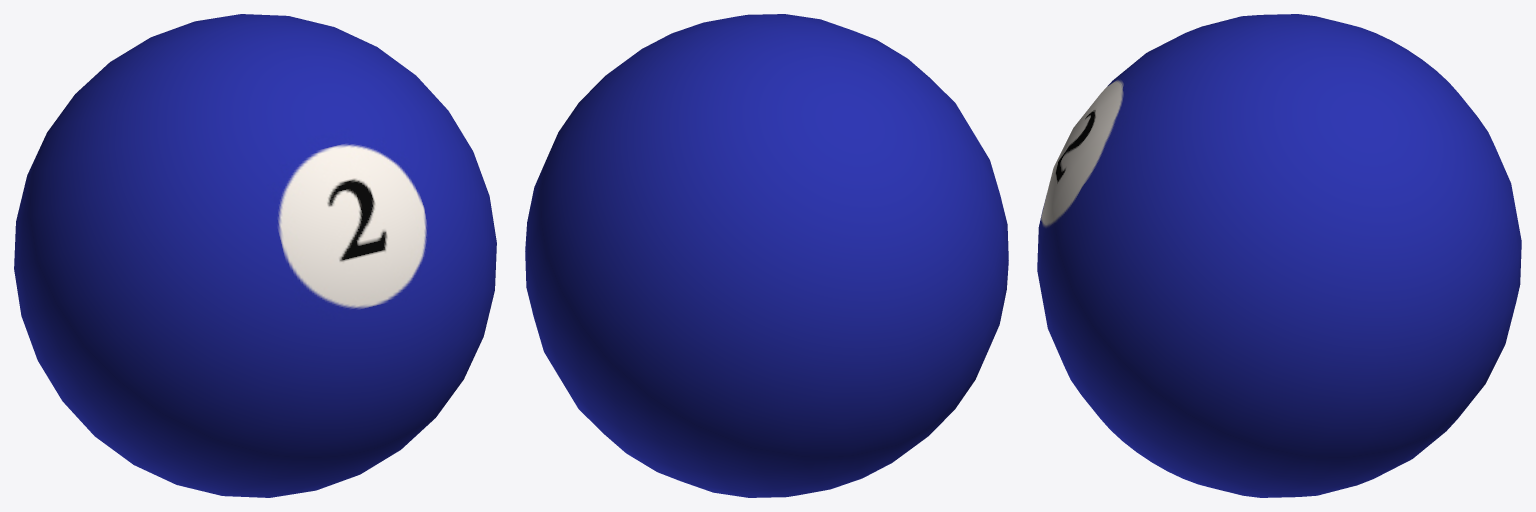
File: ball2.obj
3 renders of one model, left to right at view 1: azimuth 30°, elevation 25°; view 2: azimuth 150°, elevation 25°; view 3: azimuth 270°, elevation 25°, orthographic.
Parts seen in each view (by area): view 1: Ball2_Mesh.002; view 2: Ball2_Mesh.002; view 3: Ball2_Mesh.002.
Part boxes in pixels (x1,y1,x2,y2): Ball2_Mesh.002: (14,14,496,497); Ball2_Mesh.002: (525,14,1008,497); Ball2_Mesh.002: (1037,14,1521,497).
Size of the model in its own units: 0.9617 by 0.9597 by 0.9597.
Materials: 1 (1 with a texture image).
